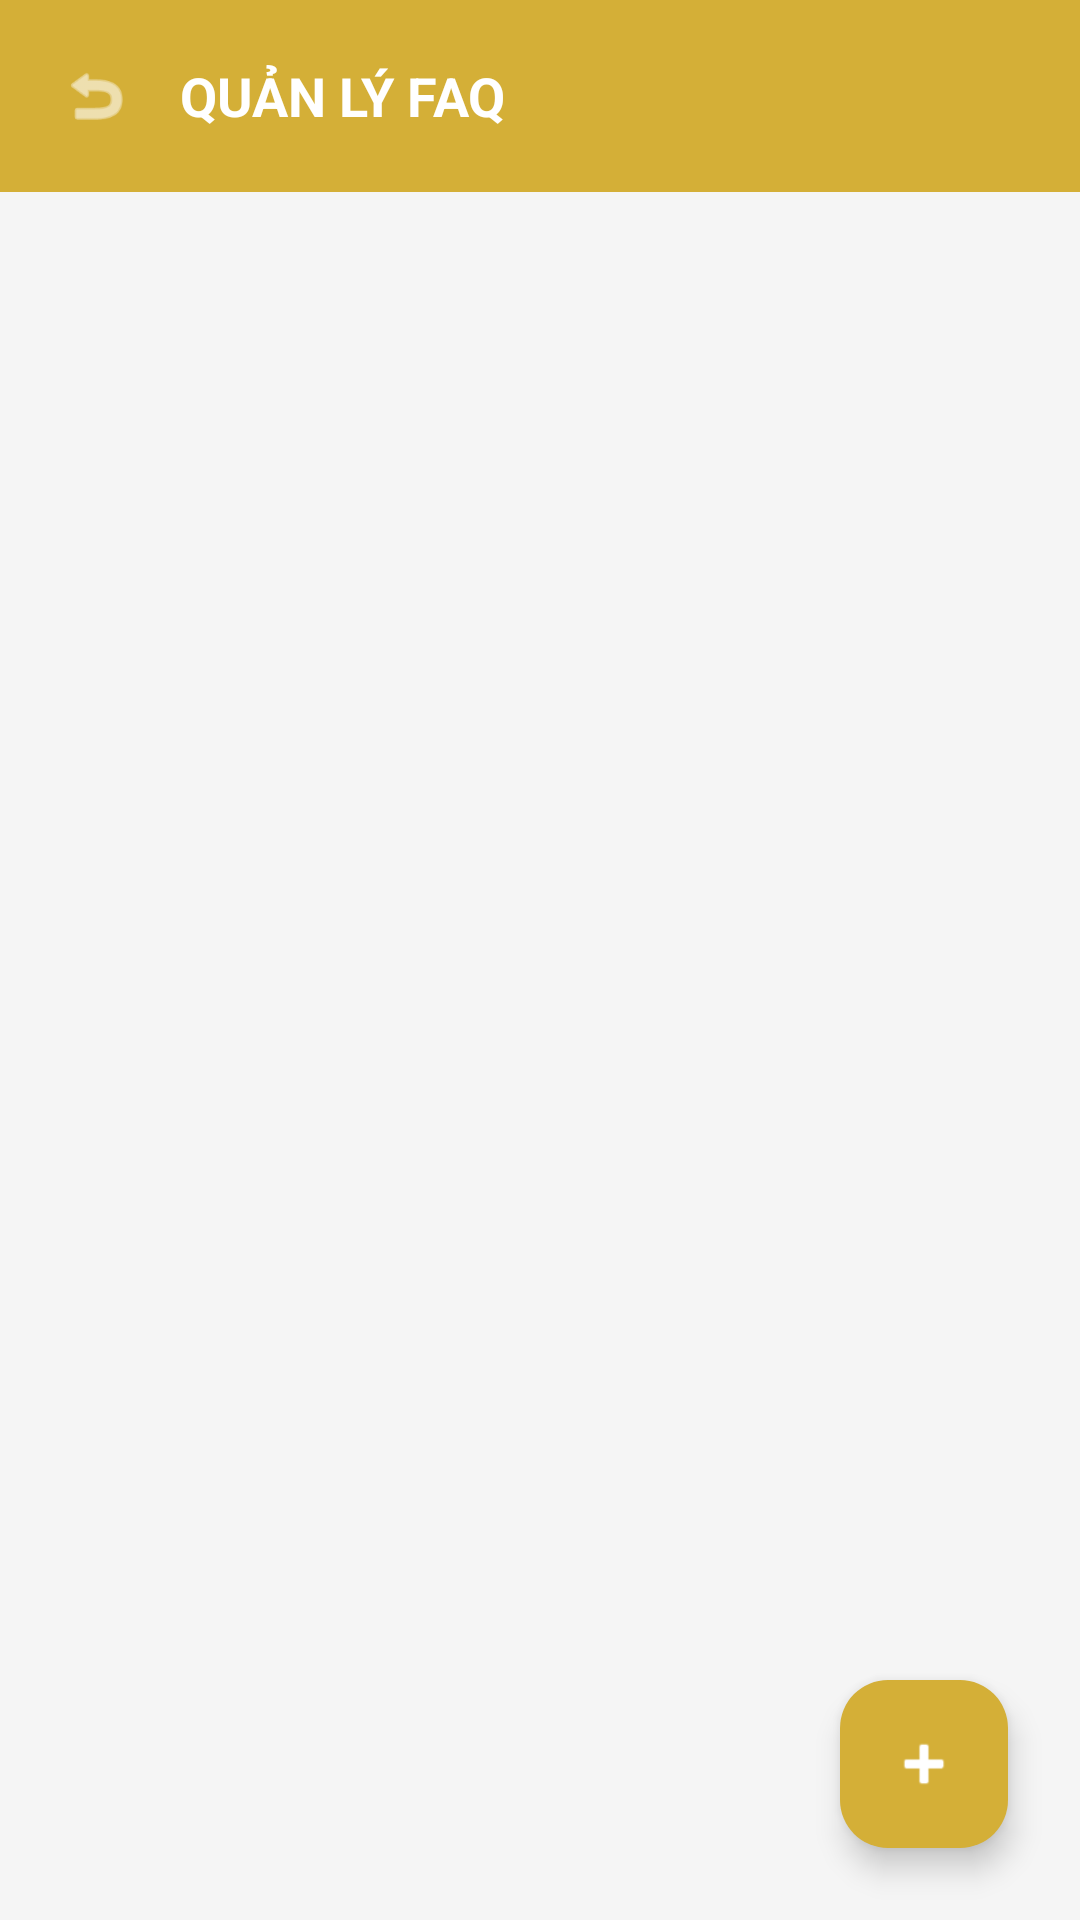

Icon bounding boxes for this 1080*1920 phone screenshot, format (x1, y1, x2, y2):
add: (840, 1680, 1008, 1848)
revert: (71, 73, 123, 120)
